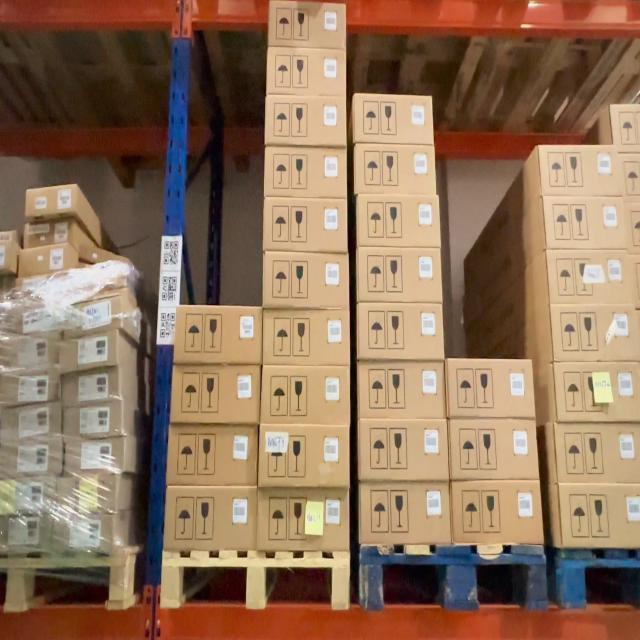box: (165, 487, 258, 553), (452, 482, 543, 545), (259, 425, 349, 488), (359, 419, 450, 481), (257, 493, 349, 553), (173, 305, 263, 366), (167, 427, 258, 487), (450, 420, 539, 481), (360, 487, 451, 546), (171, 366, 261, 425), (262, 366, 350, 426), (551, 304, 638, 364), (359, 362, 447, 421), (448, 360, 535, 418), (263, 253, 349, 310), (359, 303, 444, 360), (263, 311, 350, 366), (546, 250, 633, 304), (263, 199, 348, 254), (359, 247, 442, 303), (543, 197, 631, 249), (264, 147, 347, 199), (538, 145, 622, 196), (358, 197, 440, 248), (265, 97, 346, 148), (356, 145, 437, 195), (353, 94, 434, 144), (268, 1, 346, 50), (267, 48, 346, 96), (52, 514, 113, 556), (63, 437, 124, 477), (63, 295, 121, 337), (61, 330, 117, 373), (57, 476, 116, 516), (63, 401, 122, 440), (62, 369, 120, 406), (19, 242, 68, 277), (26, 186, 75, 216), (25, 220, 74, 249), (80, 245, 128, 264)
